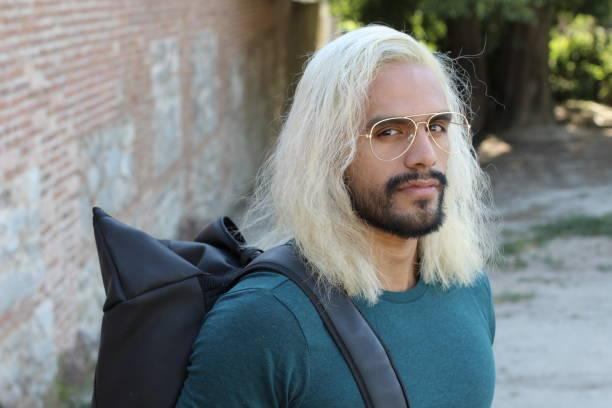dry hair: (469, 159, 496, 272), (298, 246, 344, 302), (437, 46, 477, 108), (324, 143, 348, 231), (251, 154, 276, 221), (363, 65, 380, 108)
